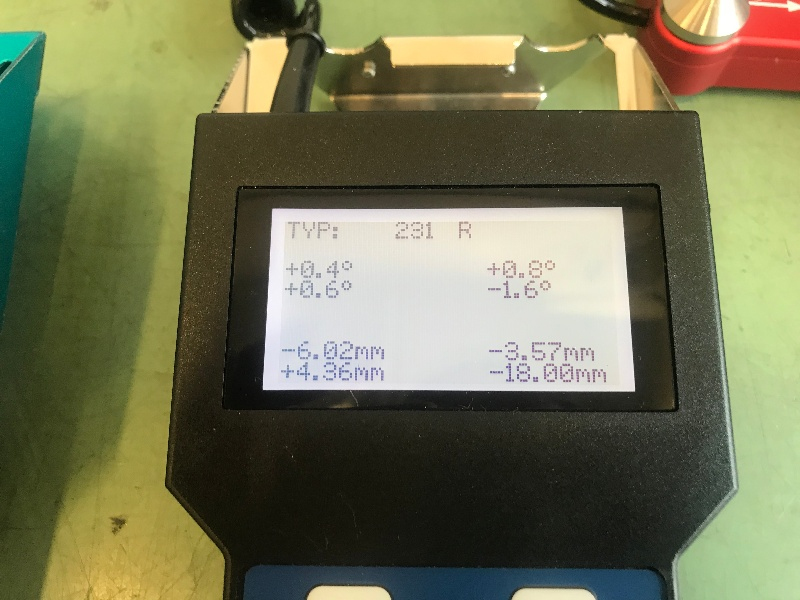ins_one: (259, 201, 635, 395)
